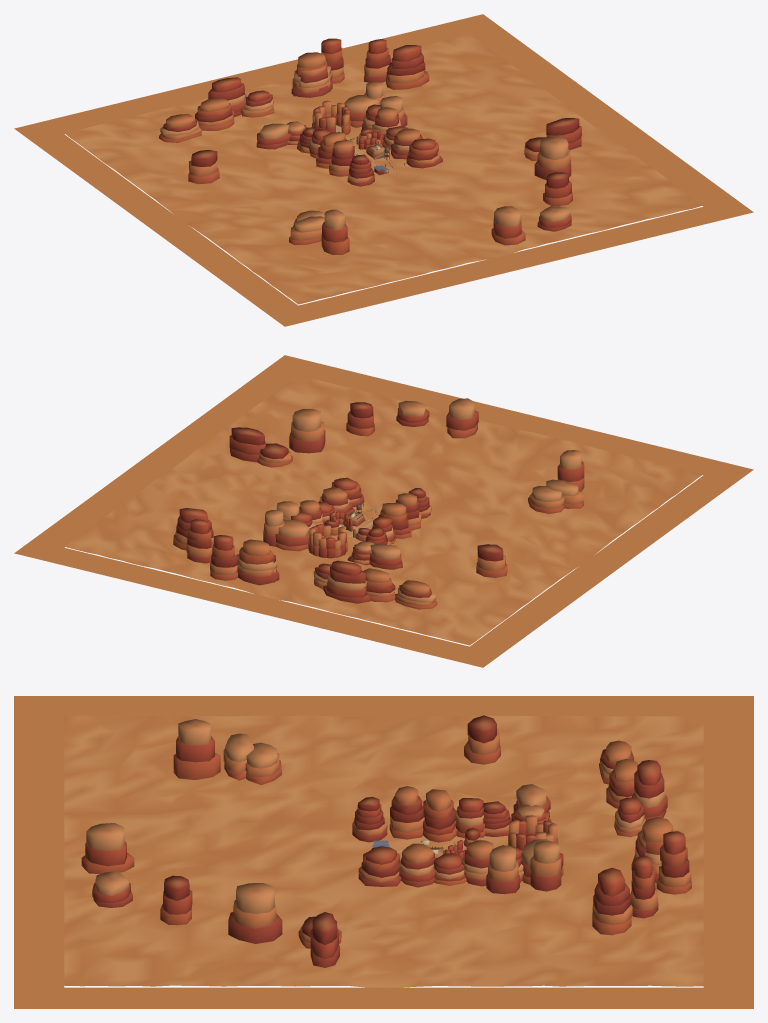
3 views of the same model, one above another, from view 1: azimuth 30°, elevation 25°; view 2: azimuth 150°, elevation 25°; view 3: azimuth 270°, elevation 25° (orthographic). The views are drawn at different scales.
Visible parts, largest first — view 1: baked; view 2: baked; view 3: baked.
Part boxes in pixels (x1,y1,x2,y2): baked: (14, 14, 753, 326); baked: (14, 355, 753, 667); baked: (14, 696, 753, 1008).
Bounding box in the file's own units: 500 × 38.2 × 500.
